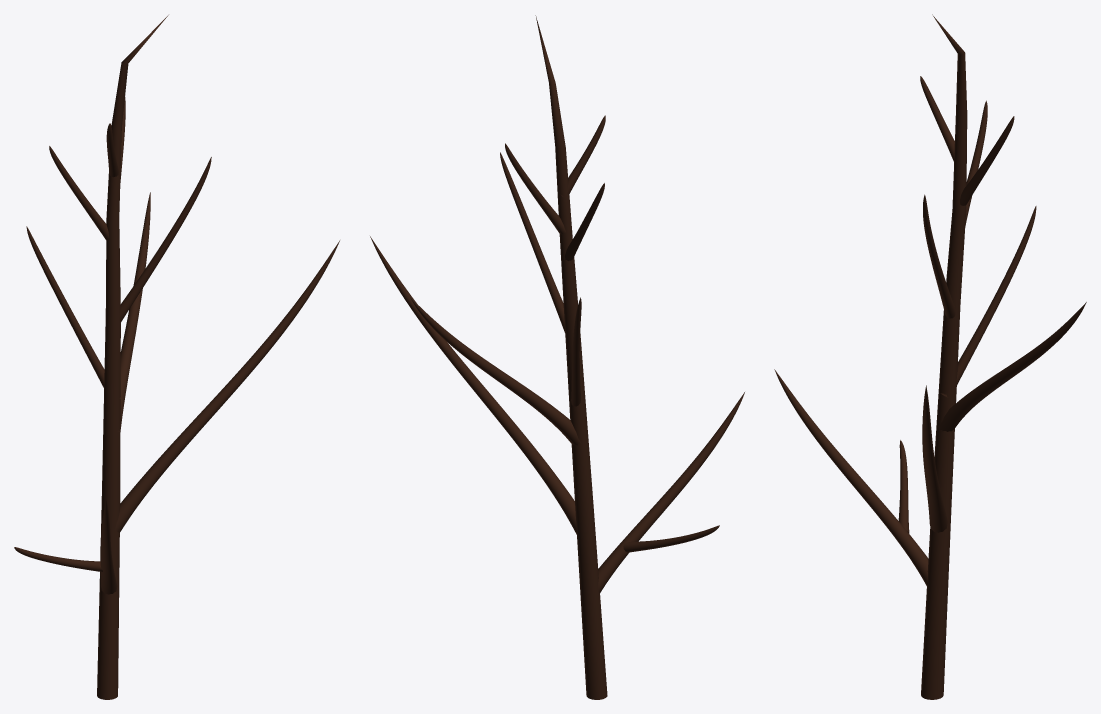
File: dead_1.glb
3 renders of one model, left to right at view 1: azimuth 30°, elevation 25°; view 2: azimuth 150°, elevation 25°; view 3: azimuth 270°, elevation 25°, orthographic. The views are drawn at different scales.
Visible parts, largest first — view 1: NurbsPath.001; view 2: NurbsPath.001; view 3: NurbsPath.001.
Boxes of the visible parts, x1,y1,x2,y2 form: NurbsPath.001: (14,15,339,699); NurbsPath.001: (370,15,744,699); NurbsPath.001: (774,14,1086,699).
Bounding box in the file's own units: 3.3 × 6.21 × 2.47.
